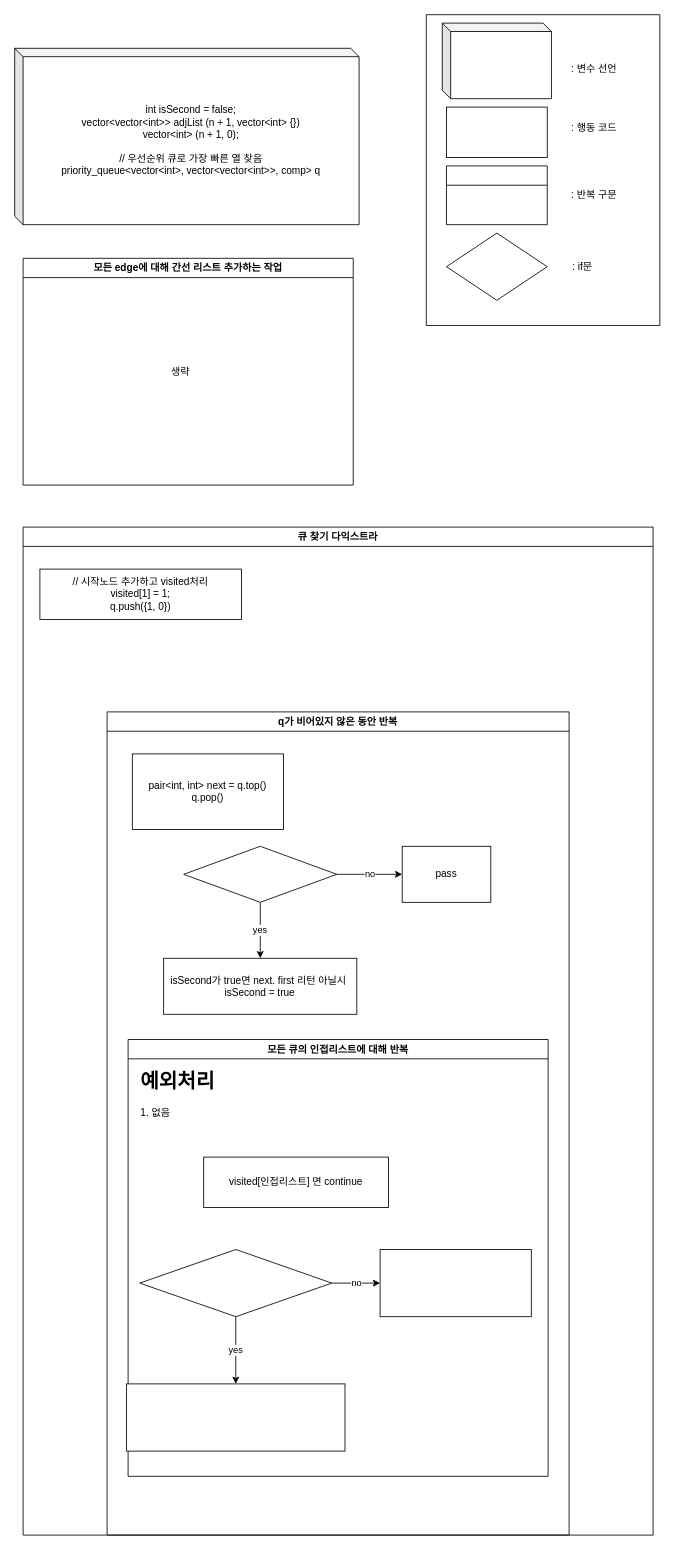
Image size: 675x1550. Some labels were removed from this diagram. The centre of each missing label's shape, as x and y in pixels:
"(next.fisrt + time) / change값이 홀순가?" belongs at (x=235, y=1283).
"next.second가 n인가?" belongs at (x=260, y=873).
"visited[인접리스트] = 1 q.push({(위의 값 + 1) * change})" belongs at (x=235, y=1417).
"visited[인접리스트] = 1 q.push({next.first + time. 인접 리스트 값})" belongs at (x=455, y=1283).
"~ 동안" belongs at (x=496, y=195).
